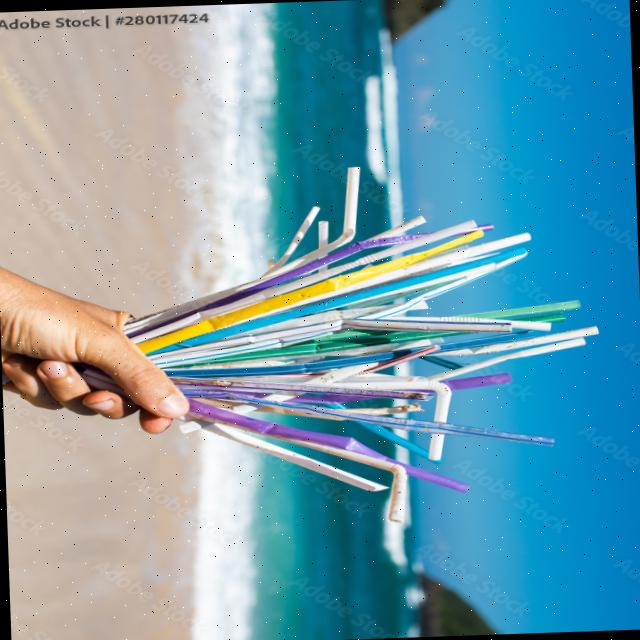plastic: (205, 374, 573, 459)
